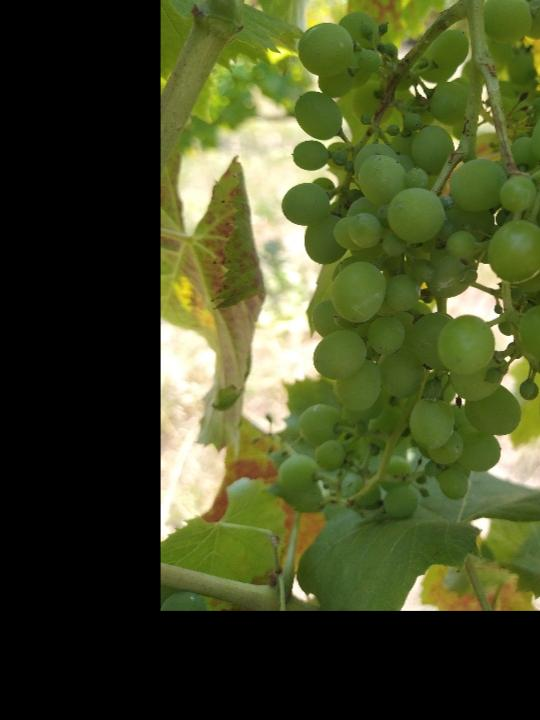grape: (277, 0, 540, 522)
